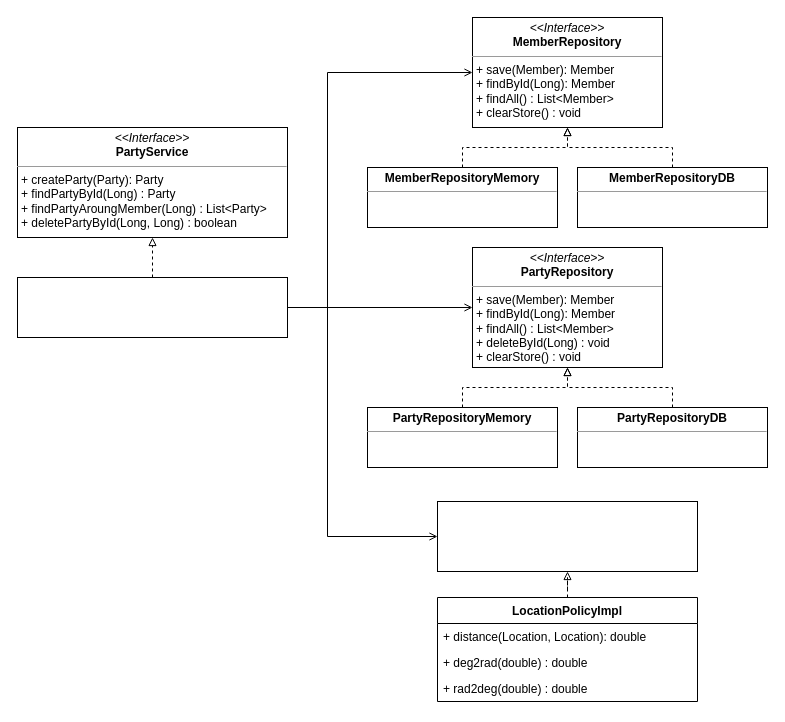
This 785x722 diagram has some shape labels left out. Each missing label, with the centre of its shape:
<<Interface>> LocationPolicy + isNearLocation(Location, Location) : boolean: point (567, 536)
PartyServiceImpl: point (152, 307)
